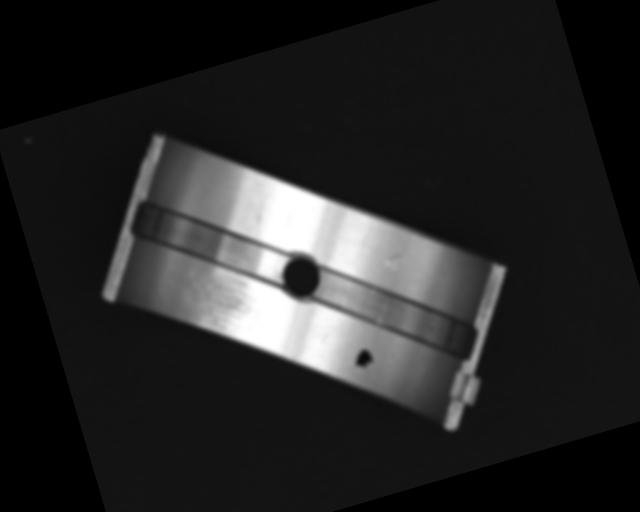blot: (350, 346, 376, 372)
bruise: (382, 251, 407, 273)
gap: (308, 237, 477, 391), (123, 166, 287, 311)
hole: (274, 249, 328, 304)
nick: (244, 191, 275, 242), (347, 228, 378, 261)
scratch: (175, 261, 274, 354)
